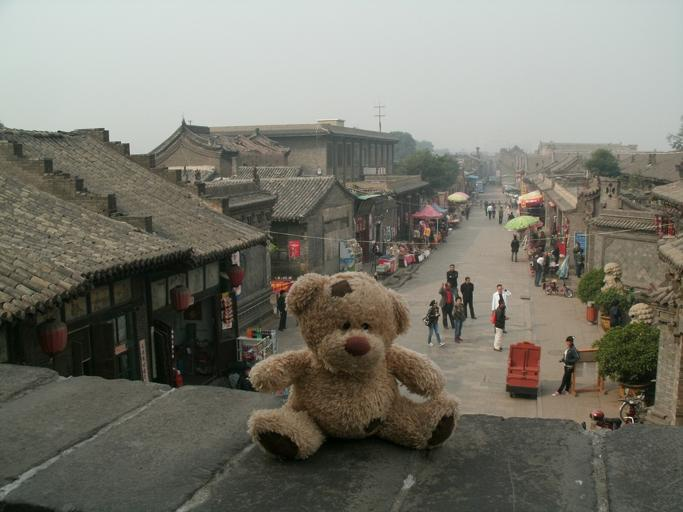non-vehicle: (588, 390, 639, 429), (542, 275, 572, 297)
